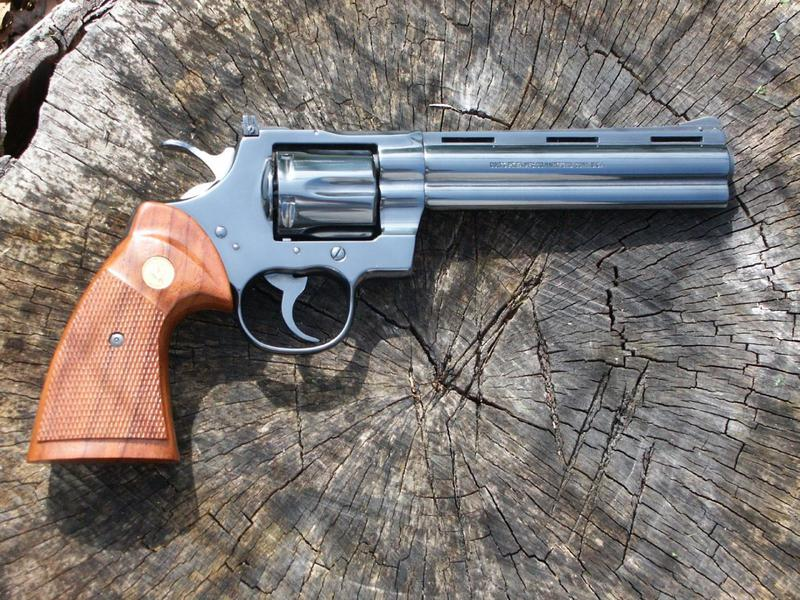Revolver: (21, 99, 752, 473)
